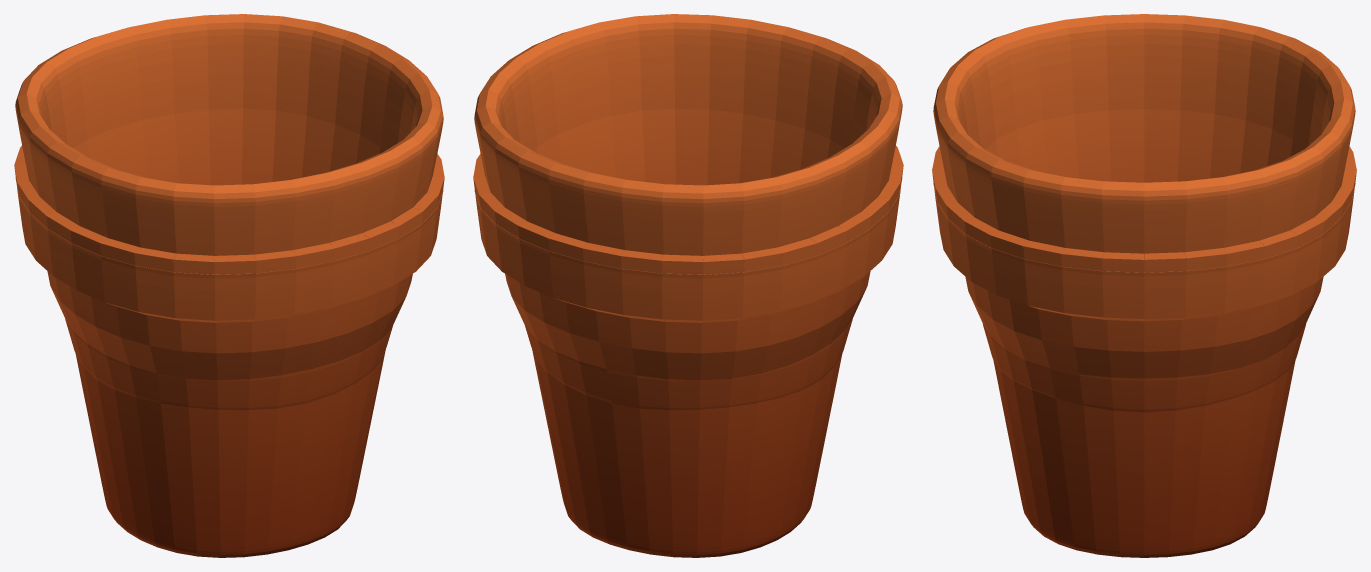
The model's file is Vaso2.fbx.
The picture shows the model from 3 angles, left to right: view 1: azimuth 30°, elevation 25°; view 2: azimuth 150°, elevation 25°; view 3: azimuth 270°, elevation 25°; orthographic projection.
Parts seen in each view (by area): view 1: Cube.010; view 2: Cube.010; view 3: Cube.010.
Part boxes in pixels (left/top/right/bottom): Cube.010: left=14, top=14, right=444, bottom=557; Cube.010: left=473, top=14, right=903, bottom=557; Cube.010: left=932, top=14, right=1356, bottom=557.
Size of the model in its own units: 52.38 by 56.01 by 52.38.
Materials: 1 (1 with a texture image).
